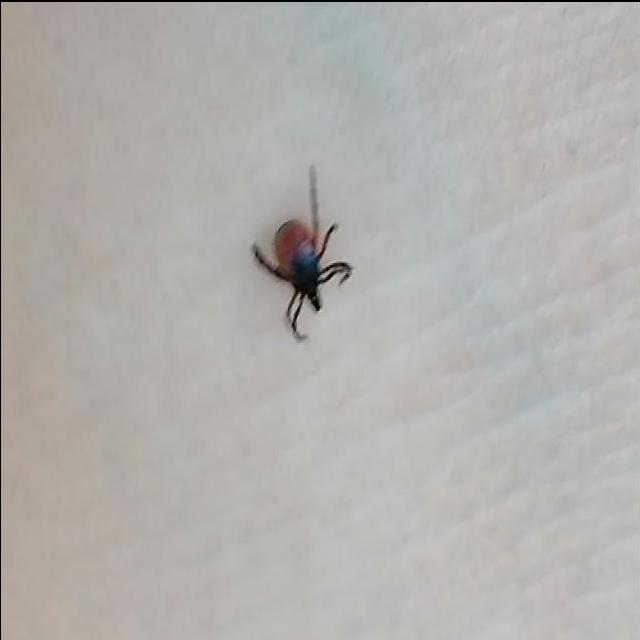Ixodes Ricinus-F: (248, 162, 352, 340)
